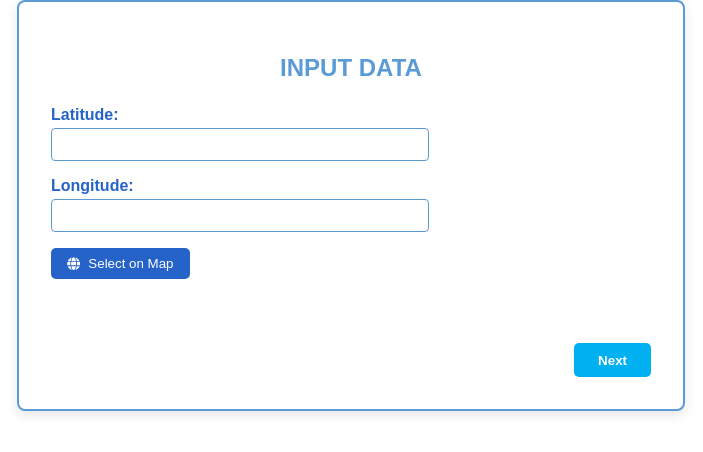
it: rejects non-numeric coordinates before advancing
This screenshot has width=703, height=452.
Type "north" into the field named "latitude" below "Latitude:".
click(240, 144); type("north")  # box [51,128,429,161]
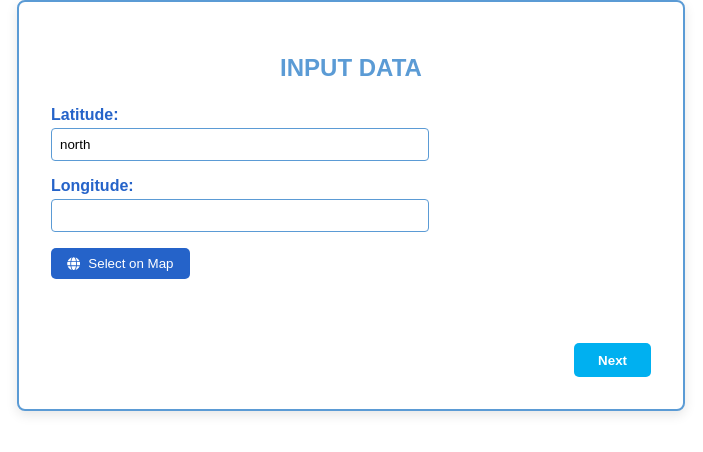
Type "-74.0817" into the field named "longitude" below "Longitude:".
click(240, 215); type("-74.0817")  # box [51,199,429,232]
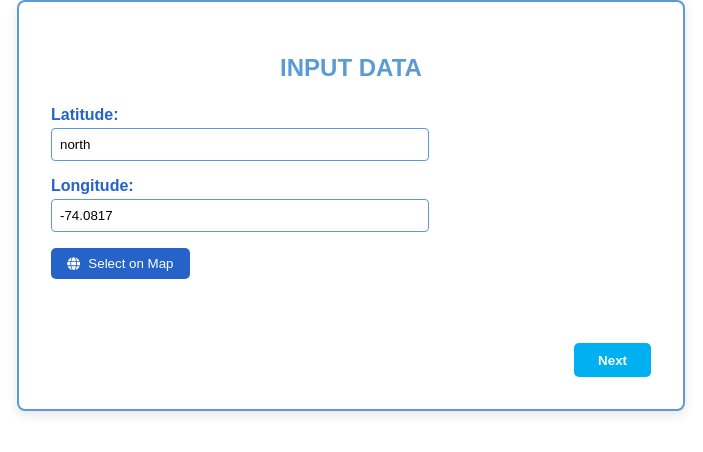
Click the button "Next".
click(613, 360)  # box [574,343,651,377]
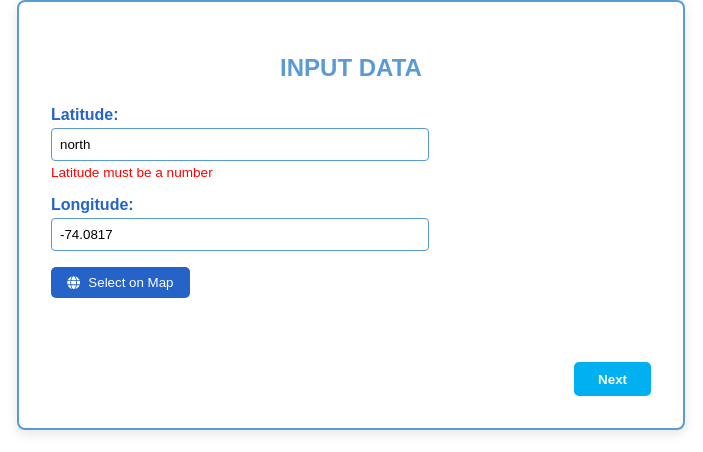
Now the text "Latitude must be a number" is shown, box [51,165,213,180]
